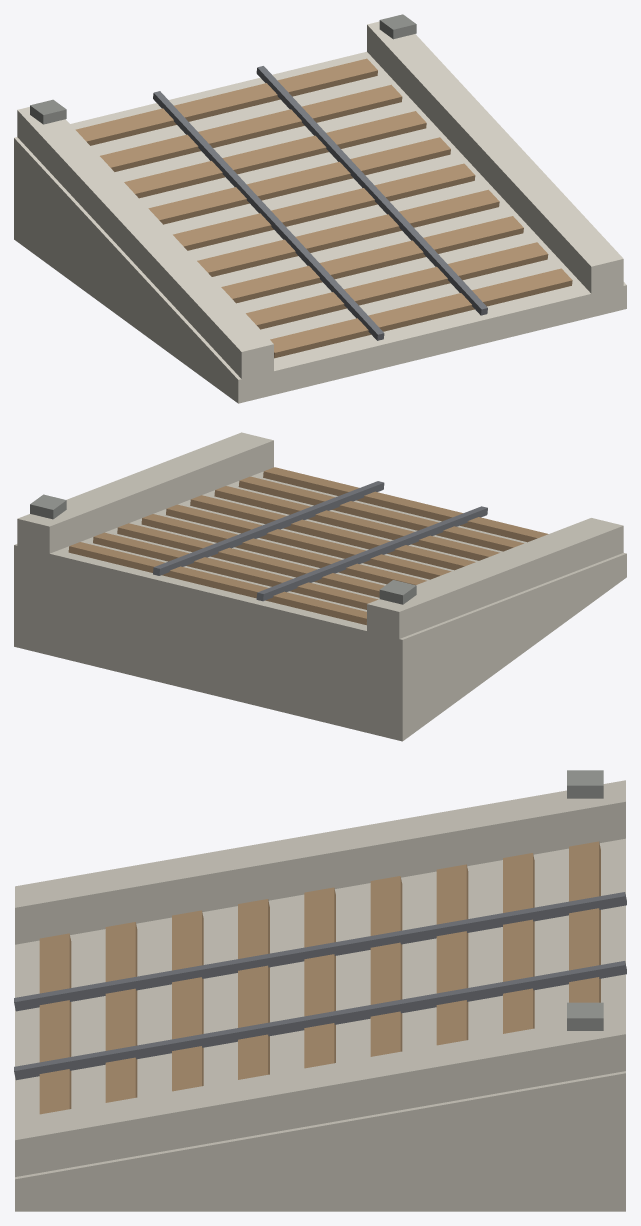
Rendered from lighthouse-and-rocky-coast-slipway-871ff32c__36616.glb.
3 renders of one model, top to bottom at view 1: azimuth 30°, elevation 25°; view 2: azimuth 150°, elevation 25°; view 3: azimuth 270°, elevation 25°, orthographic. The views are drawn at different scales.
Visible parts, largest first — view 1: slipway; view 2: slipway; view 3: slipway.
Boxes of the visible parts, x1,y1,x2,y2 form: slipway: (14,14,626,403); slipway: (14,432,626,741); slipway: (14,770,626,1211).
Size of the model in its own units: 6 by 2.04 by 6.02.
